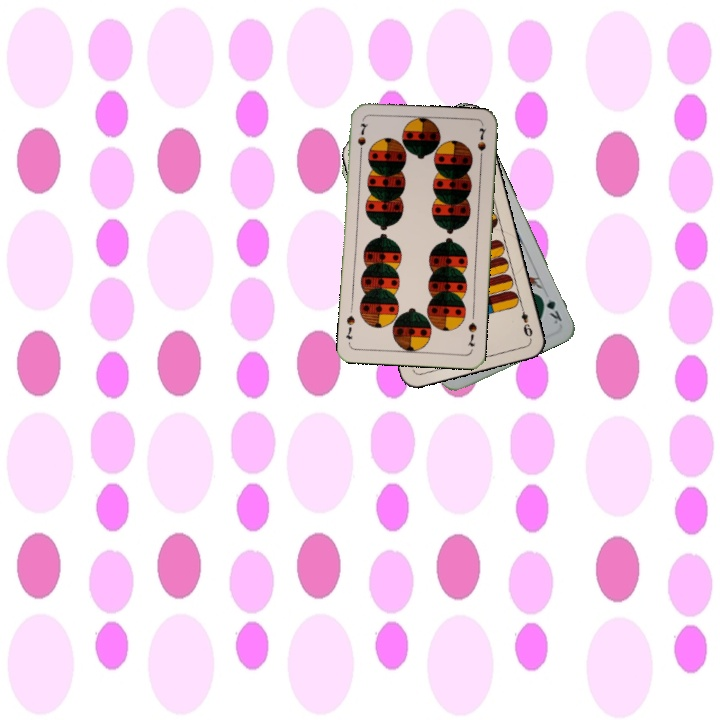E9: (517, 301, 535, 341)
GK: (536, 290, 565, 327)
S7: (353, 119, 370, 158), (463, 319, 479, 349)
